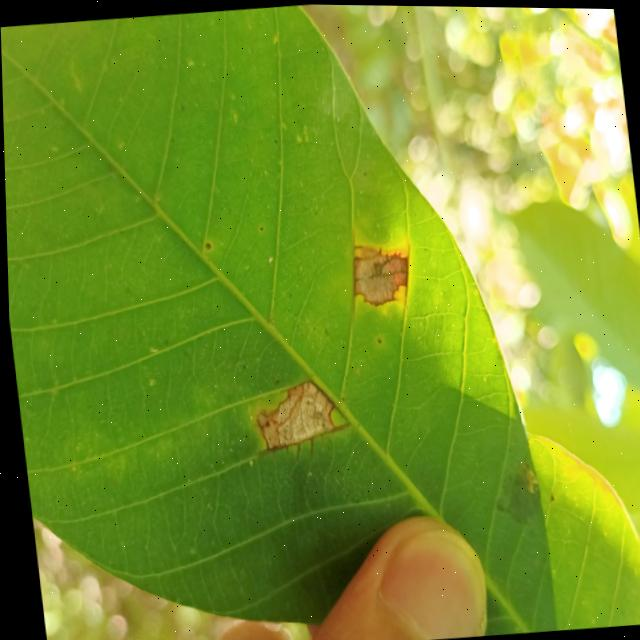Colletotrichum: (202, 242, 209, 249), (373, 337, 379, 343), (257, 226, 261, 230)
Leaf-Blight: (250, 378, 334, 449), (347, 241, 410, 309)
